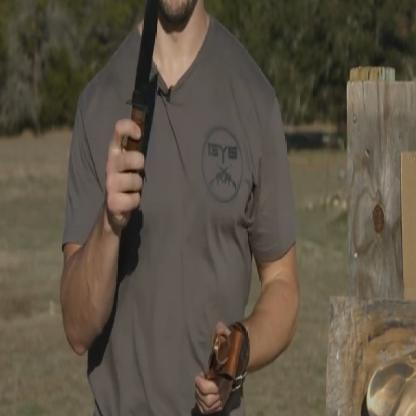knife: (100, 0, 172, 223)
